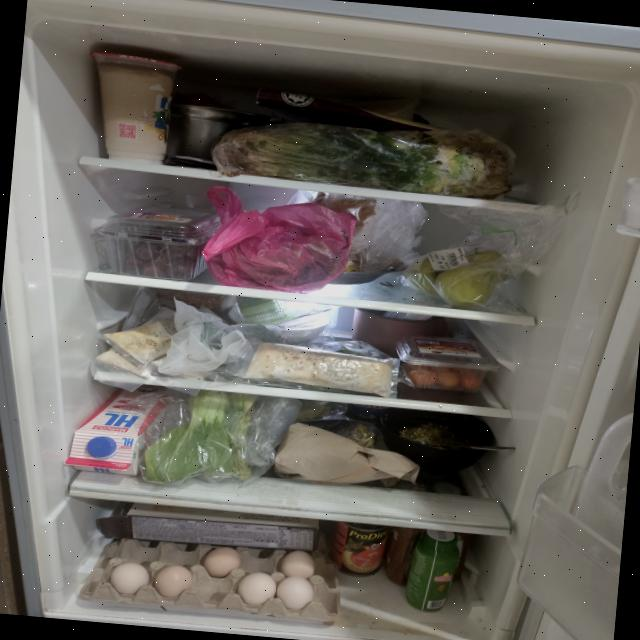apple: (432, 262, 496, 310)
egg: (78, 529, 344, 625)
leafy_greens: (208, 110, 518, 200)
pakchoy: (141, 385, 259, 492)
tempeh: (243, 340, 394, 399), (94, 300, 180, 382)
unknown_bag: (199, 184, 357, 298), (158, 294, 284, 384), (123, 222, 203, 280)
